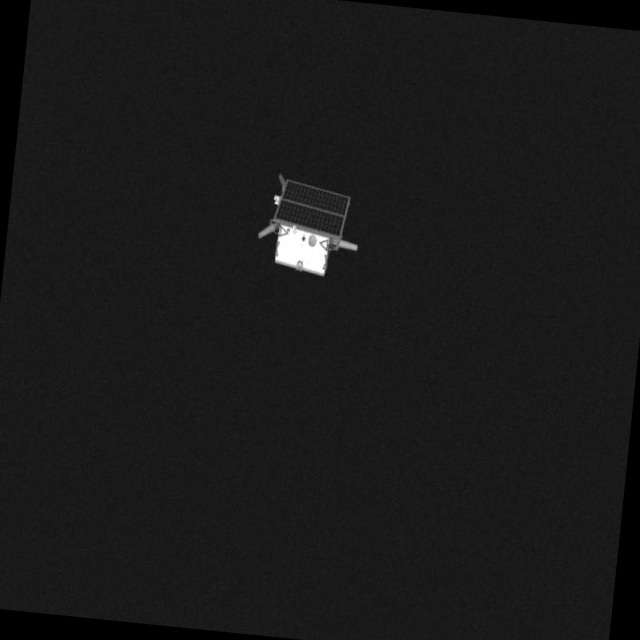medium_debris: (238, 170, 366, 291)
